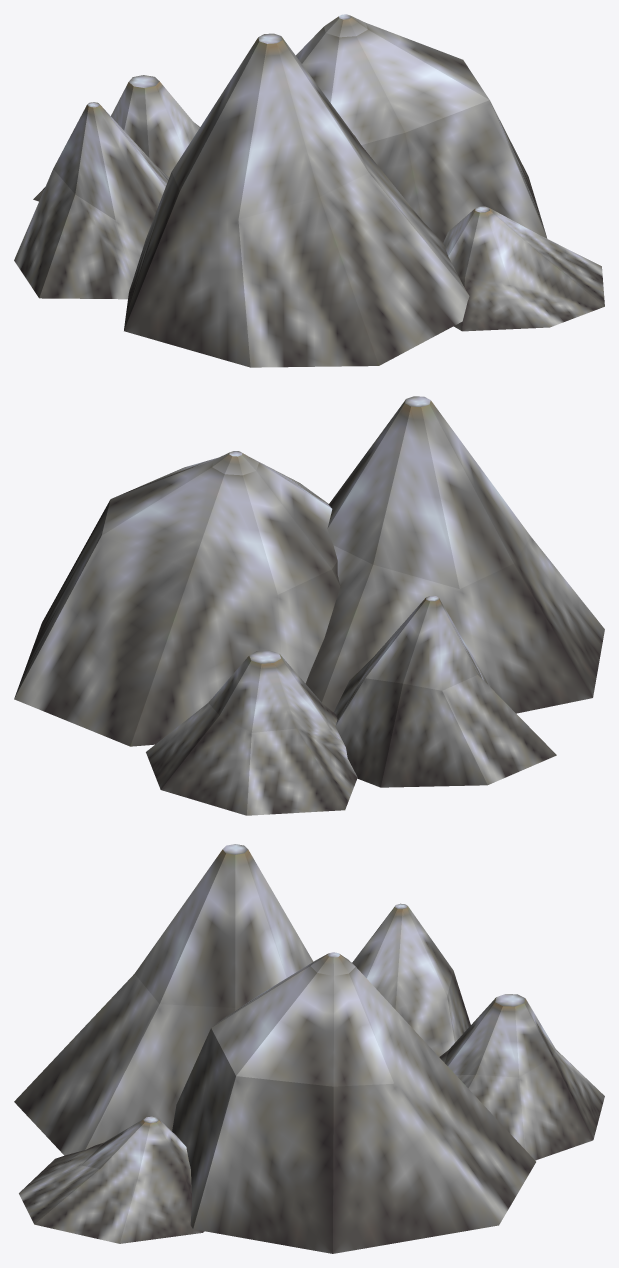
File: Poly_World_Map_Mountain_Dark_05.obj
3 renders of one model, top to bottom at view 1: azimuth 30°, elevation 25°; view 2: azimuth 150°, elevation 25°; view 3: azimuth 270°, elevation 25°, orthographic. The views are drawn at different scales.
Parts seen in each view (by area): view 1: Cube.002_Cube.002, Cube.002_Cube.001, Cube.002_Cube.004, Cube.002_Cube.003; view 2: Cube.002_Cube.001, Cube.002_Cube.002, Cube.002_Cube.004, Cube.002_Cube.003; view 3: Cube.002_Cube.001, Cube.002_Cube.002, Cube.002_Cube.003, Cube.002_Cube.004.
Boxes of the visible parts, box(x1,y1,x2,y2) form: Cube.002_Cube.002: box(124, 33, 469, 367); Cube.002_Cube.001: box(296, 14, 547, 242); Cube.002_Cube.004: box(14, 102, 169, 299); Cube.002_Cube.003: box(33, 75, 604, 331); Cube.002_Cube.001: box(14, 451, 340, 746); Cube.002_Cube.002: box(305, 396, 604, 713); Cube.002_Cube.004: box(334, 596, 556, 787); Cube.002_Cube.003: box(146, 650, 357, 815); Cube.002_Cube.001: box(172, 952, 535, 1253); Cube.002_Cube.002: box(14, 844, 313, 1155); Cube.002_Cube.003: box(19, 994, 604, 1243); Cube.002_Cube.004: box(352, 903, 470, 1056).
Size of the model in its own units: 1.62 by 0.8052 by 1.67.
1 material, 1 textured.
